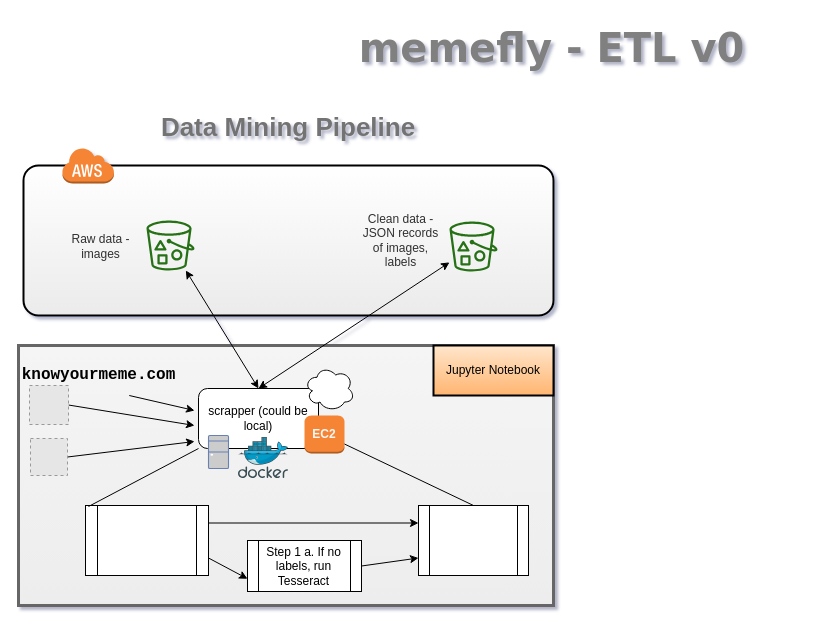
This 823x630 diagram has some shape labels left out. Grey dashed boxes stand in for pictures. The centre of each missing label's shape, as x and y in pixels:
"Step 1. Scrapping images, labels" belongs at [146,540].
"Step 2. Clean labels, images Step 3. Dump JSON file" belongs at [473,540].
